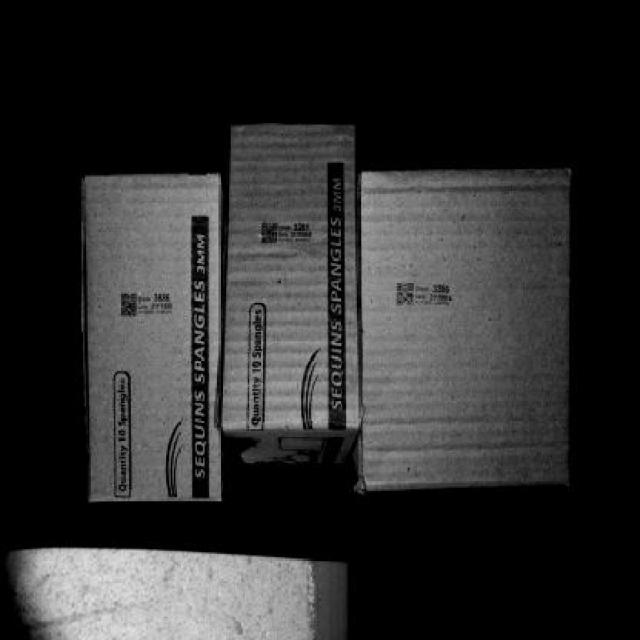cardboxes: (366, 176, 569, 464), (79, 174, 224, 497), (233, 118, 359, 430)
